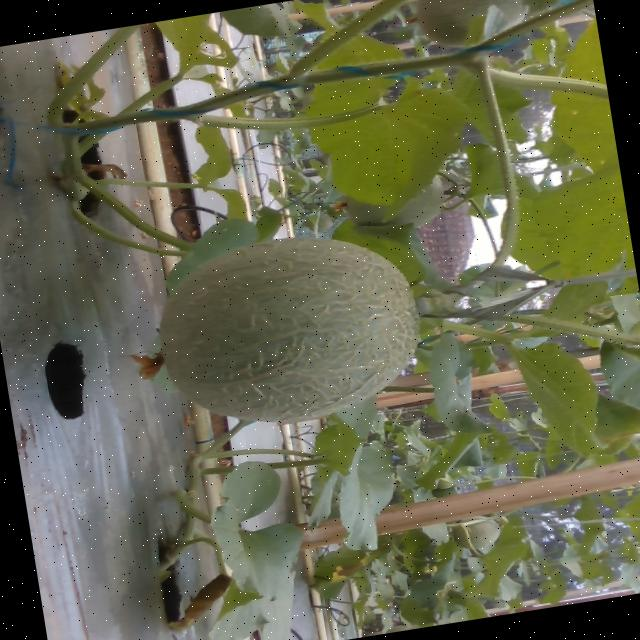melon: (158, 238, 418, 423)
